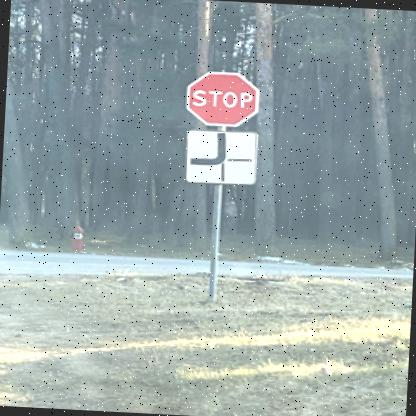stop: (184, 69, 258, 126)
